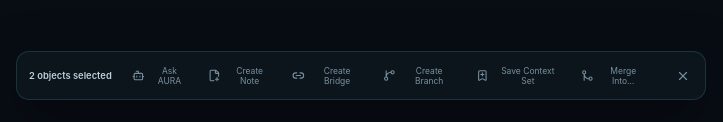
it: Context Lens actions › does not offer a merge action when no saved destination branch exists
Click the button "Merge Into…" at (614, 76), box [573,61,656,90]
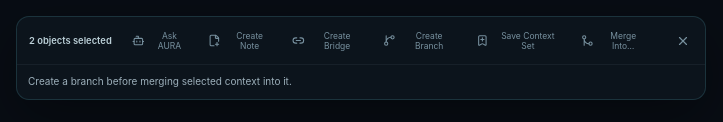
Expected: the message reads "Create a branch before merging selected context into it.", [28,75,292,87]
